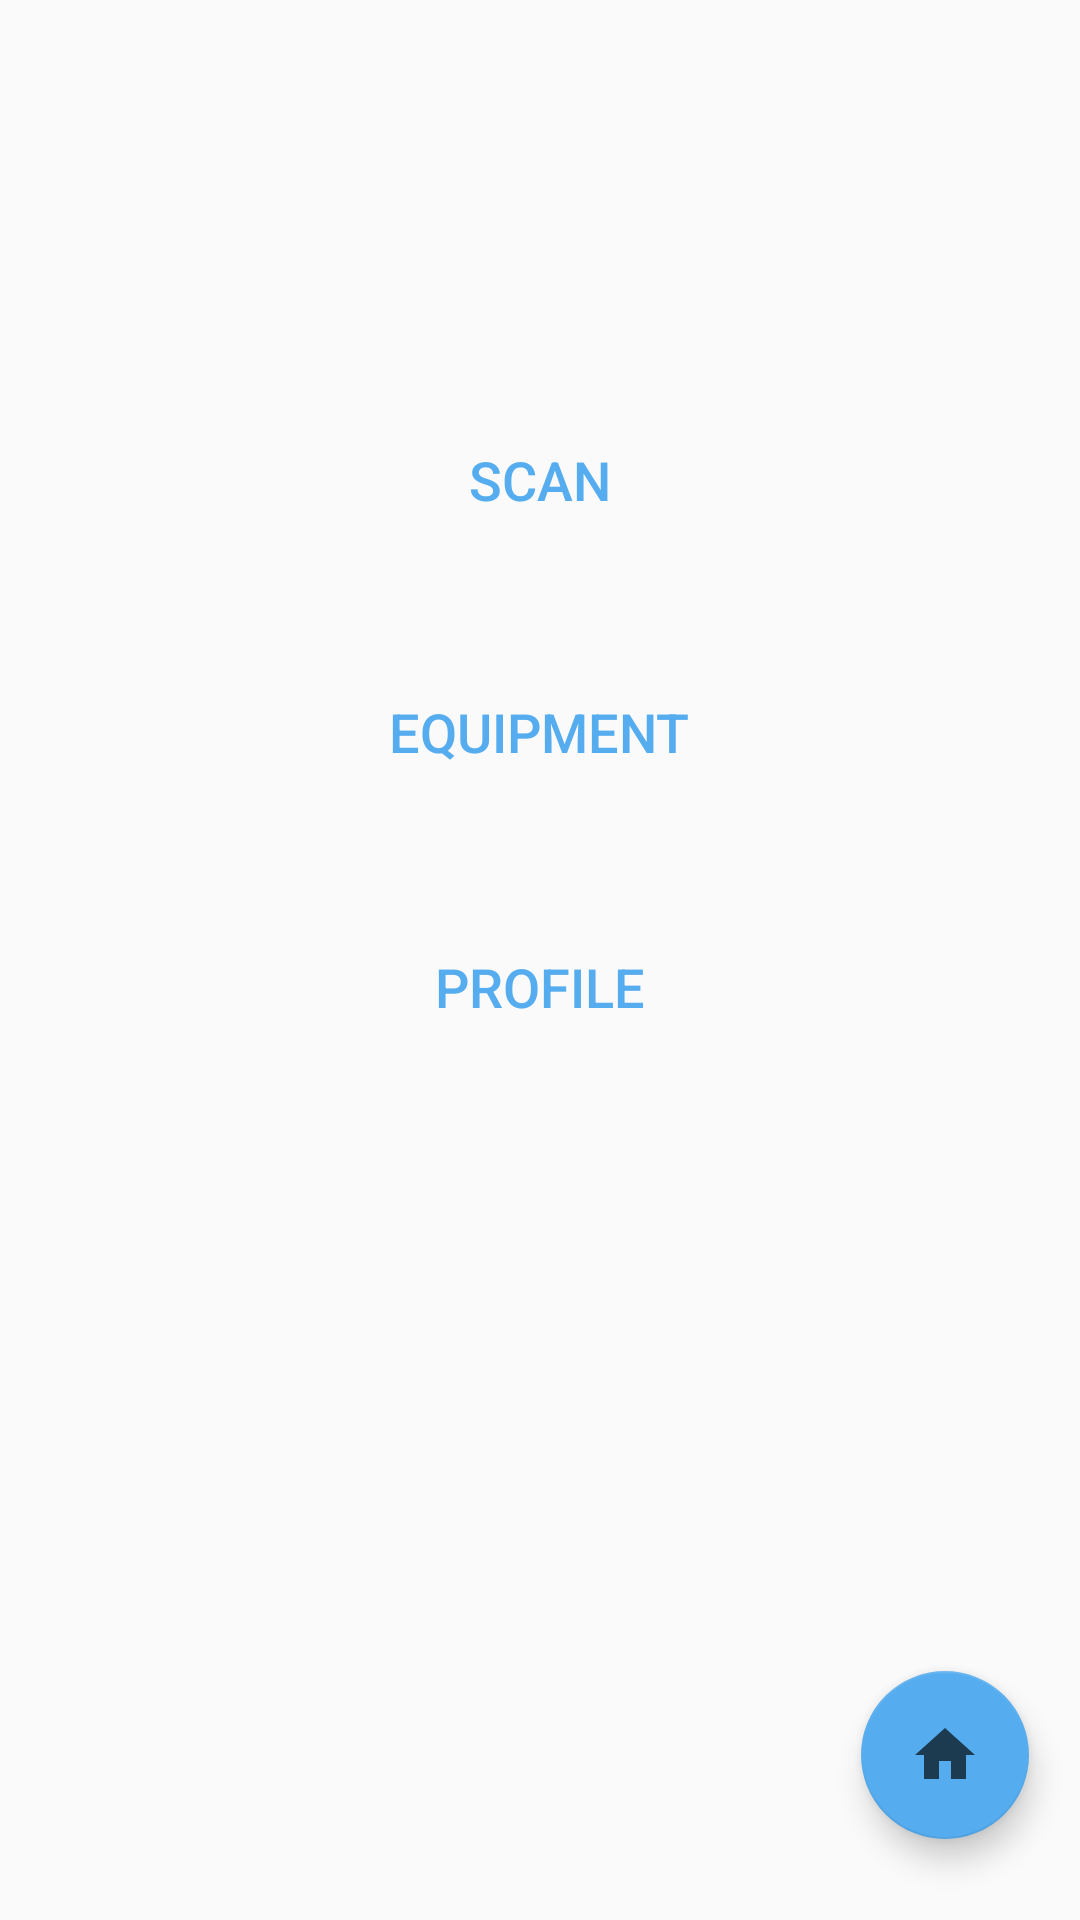

Locate icon controls on the screen. Image size 1080 × 1920, boxes as (x1, y1, x2, y2).
home: (861, 1671, 1029, 1839)
